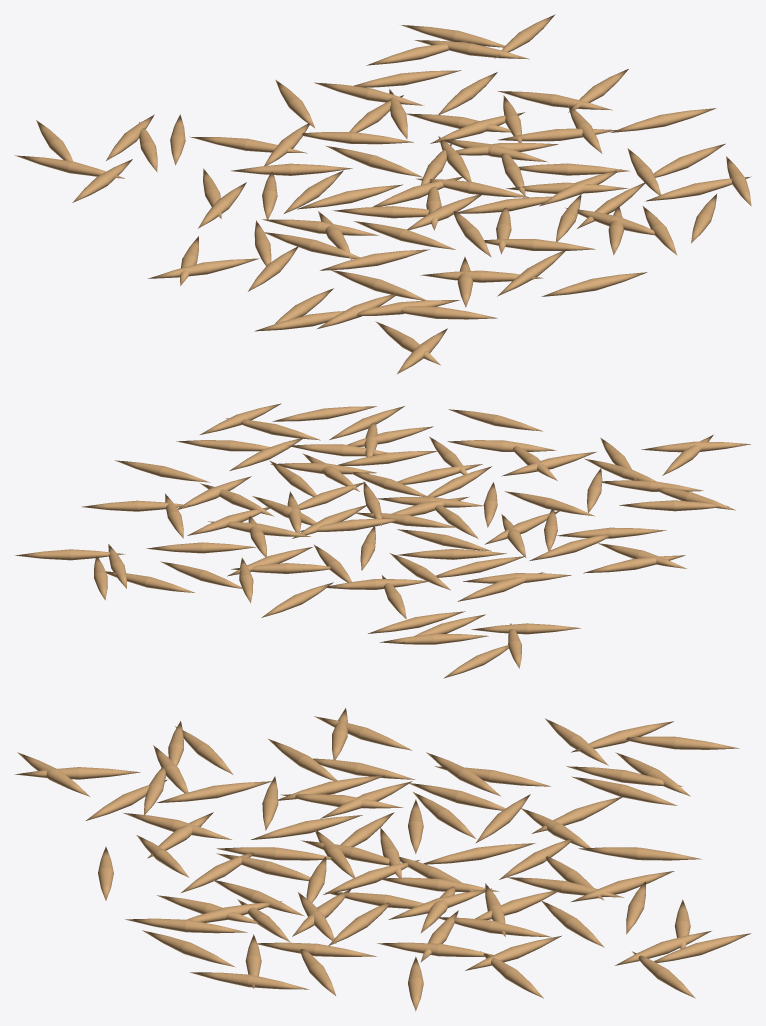
Rendered from PineNeedles.fbx.
3 renders of one model, top to bottom at view 1: azimuth 30°, elevation 25°; view 2: azimuth 150°, elevation 25°; view 3: azimuth 270°, elevation 25°, orthographic. The views are drawn at different scales.
Parts seen in each view (by area): view 1: pCone85; view 2: pCone85; view 3: pCone85.
Boxes of the visible parts, box(x1,y1,x2,y2) form: pCone85: box(14, 14, 751, 373); pCone85: box(15, 403, 750, 678); pCone85: box(14, 708, 750, 1011).
Size of the model in its own units: 24.65 by 0.4126 by 25.39.
